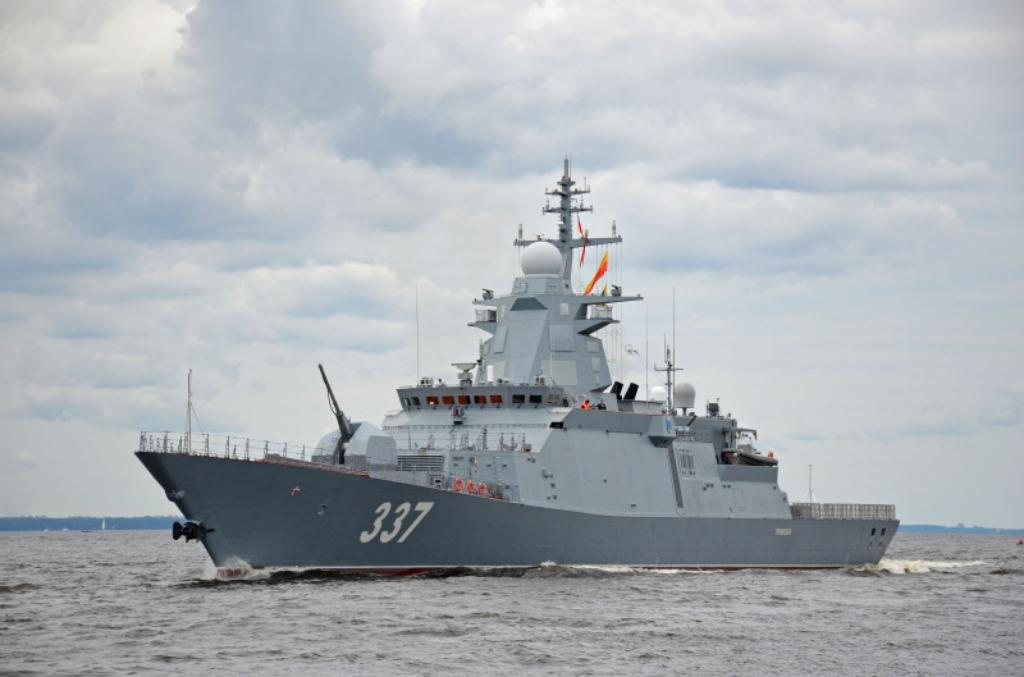Warship: (130, 150, 904, 582)
